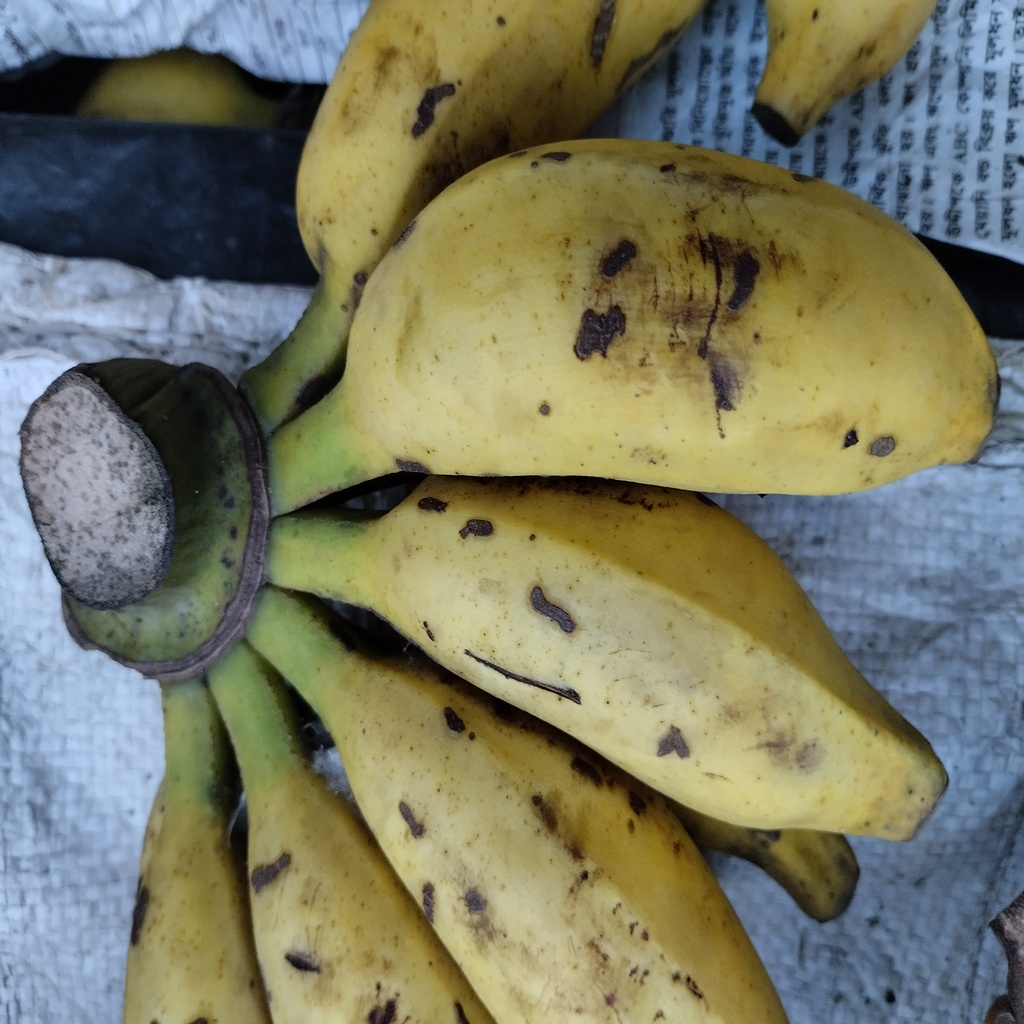unhealthy: (351, 138, 994, 492), (367, 469, 938, 834)
